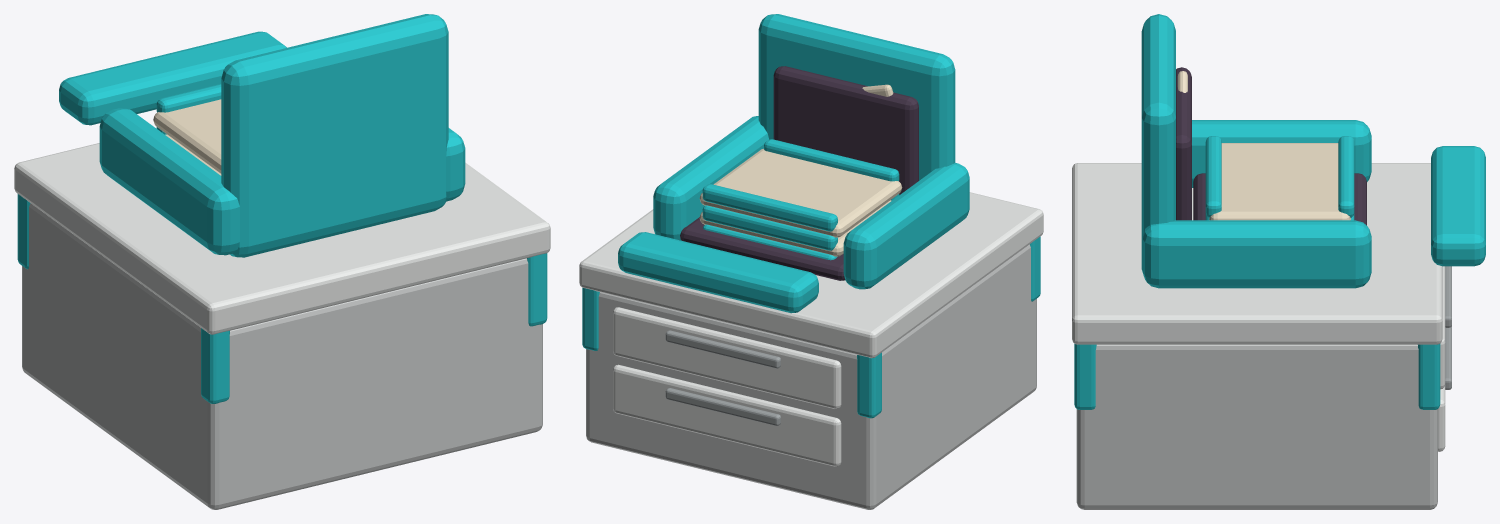
Rendered from ContainerDispenser.fbx.
3 renders of one model, left to right at view 1: azimuth 30°, elevation 25°; view 2: azimuth 150°, elevation 25°; view 3: azimuth 270°, elevation 25°, orthographic. The views are drawn at different scales.
Visible parts, largest first — view 1: MAT_Steel Geometry.004, MAT_Teal Geometry.004, MAT_SteelLight Geometry.005, MAT_Container Geometry; view 2: MAT_Teal Geometry.004, MAT_Steel Geometry.004, MAT_SteelLight Geometry.005, MAT_DeepInset Geometry.001, MAT_Container Geometry, MAT_SteelDark Geometry.004; view 3: MAT_Steel Geometry.004, MAT_Teal Geometry.004, MAT_SteelLight Geometry.005, MAT_Container Geometry, MAT_DeepInset Geometry.001, MAT_SteelDark Geometry.004.
Boxes of the visible parts, bbox=[...] form: MAT_Steel Geometry.004: bbox=[22, 203, 542, 509]; MAT_Teal Geometry.004: bbox=[17, 14, 547, 403]; MAT_SteelLight Geometry.005: bbox=[14, 143, 550, 334]; MAT_Container Geometry: bbox=[153, 99, 221, 175]; MAT_Teal Geometry.004: bbox=[582, 14, 1040, 418]; MAT_Steel Geometry.004: bbox=[586, 244, 1036, 509]; MAT_SteelLight Geometry.005: bbox=[579, 192, 1043, 466]; MAT_DeepInset Geometry.001: bbox=[680, 66, 918, 280]; MAT_Container Geometry: bbox=[699, 84, 902, 256]; MAT_SteelDark Geometry.004: bbox=[665, 330, 780, 425]; MAT_Steel Geometry.004: bbox=[1076, 344, 1437, 509]; MAT_Teal Geometry.004: bbox=[1074, 14, 1485, 409]; MAT_SteelLight Geometry.005: bbox=[1072, 163, 1445, 451]; MAT_Container Geometry: bbox=[1177, 71, 1350, 220]; MAT_DeepInset Geometry.001: bbox=[1176, 67, 1366, 225]; MAT_SteelDark Geometry.004: bbox=[1445, 266, 1451, 389].
Size of the model in its own units: 162 by 182 by 181.
